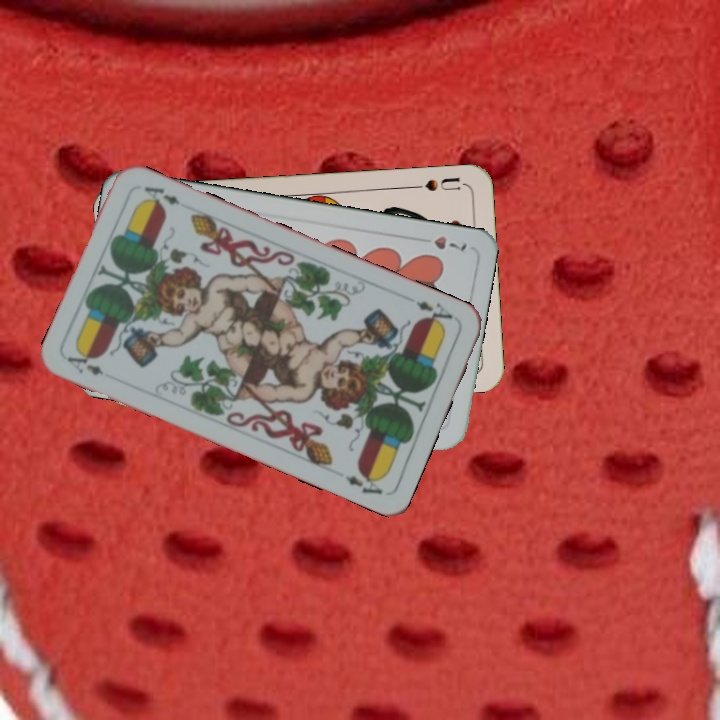EA: (412, 296, 456, 330), (63, 347, 106, 378)
H7: (429, 232, 469, 254)
SU: (407, 174, 467, 194)
